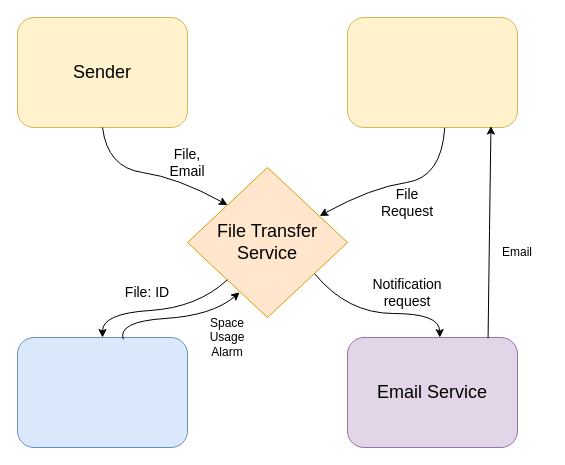
Image size: 565x465. Some labels were removed from this diagram. Each missing label, with the centre of its shape:
Cloud(FileStorage): pixel 102 392
Recepient: pixel 432 72
